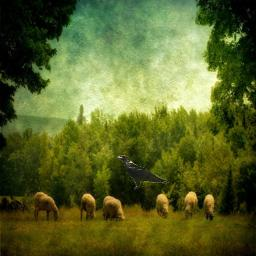Crow: (116, 155, 169, 190)
